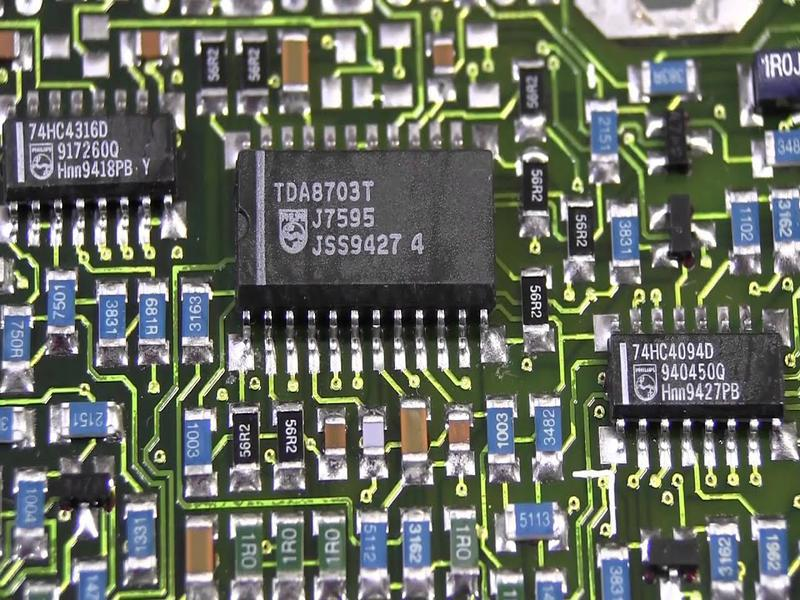SMD capacitor: (181, 518, 215, 590)
SMD resistor: (518, 267, 556, 337), (515, 56, 550, 130), (522, 156, 553, 224), (565, 203, 595, 271), (277, 403, 306, 472), (231, 406, 260, 473)
